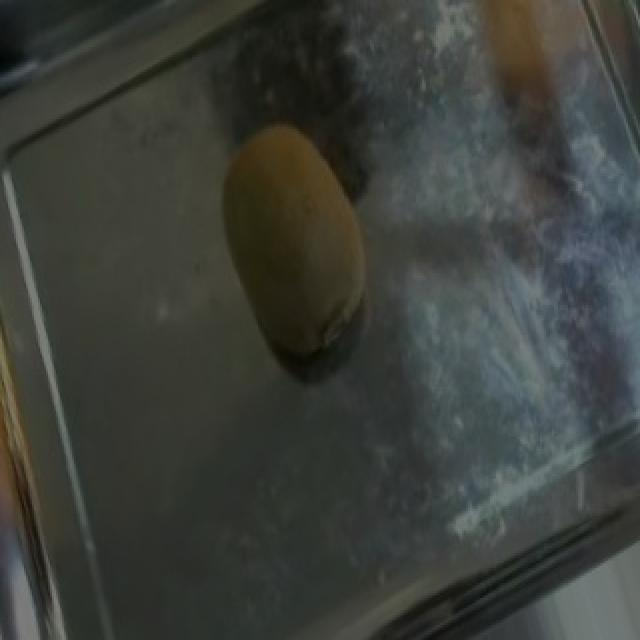Fruit: (182, 92, 414, 392)
